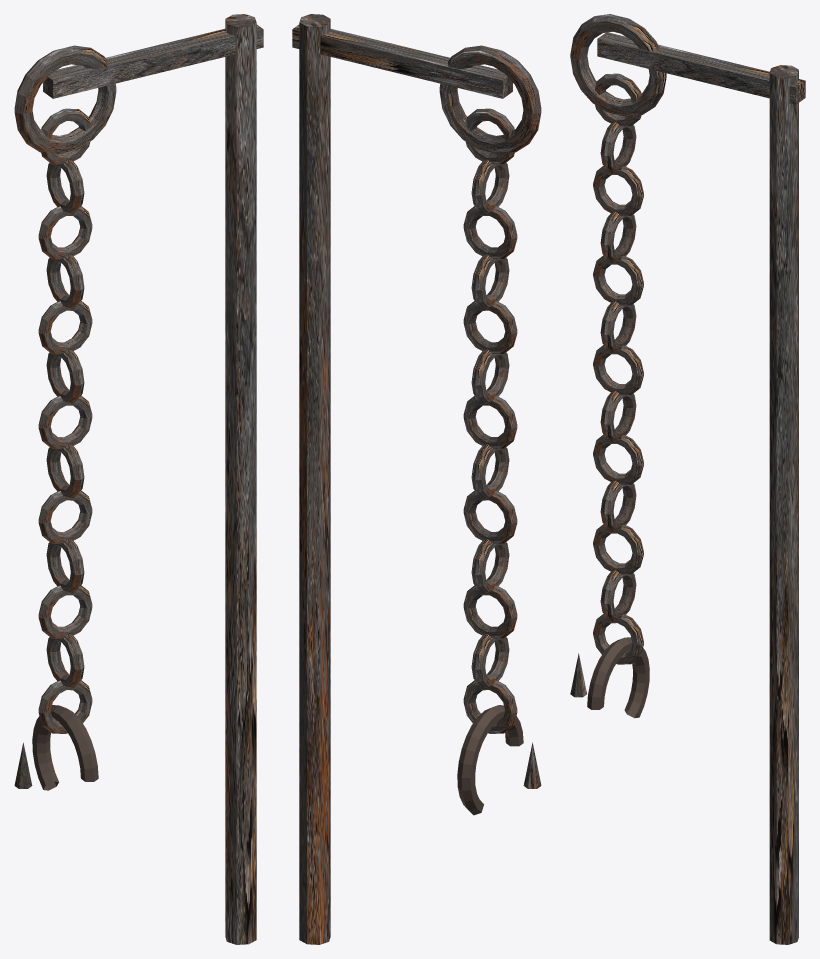
The model's file is hook-chain-v01.glb.
3 renders of one model, left to right at view 1: azimuth 30°, elevation 25°; view 2: azimuth 150°, elevation 25°; view 3: azimuth 330°, elevation 25°, orthographic. The views are drawn at different scales.
Parts seen in each view (by area): view 1: hook-chain; view 2: hook-chain; view 3: hook-chain.
Boxes of the visible parts, left/top/right/bottom form: hook-chain: left=14, top=14, right=263, bottom=944; hook-chain: left=292, top=14, right=541, bottom=944; hook-chain: left=570, top=14, right=805, bottom=944.
Size of the model in its own units: 0.695 by 2.54 by 0.2836.
Materials: 1 (1 with a texture image).
